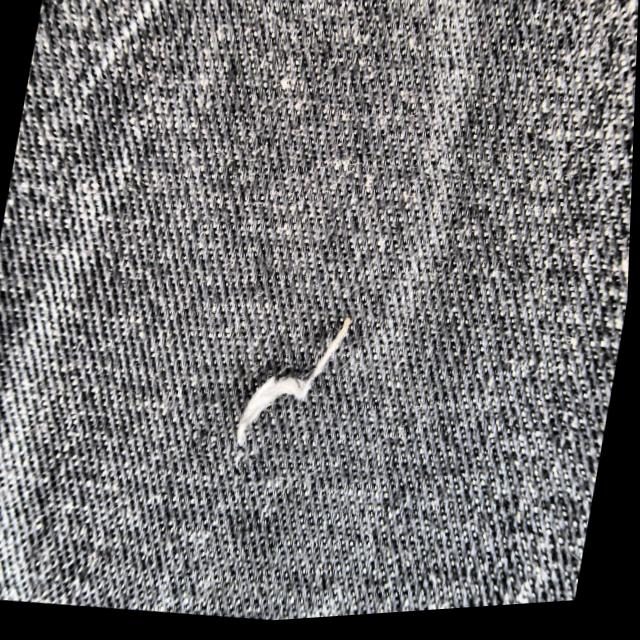Stitch: (208, 284, 393, 546)
